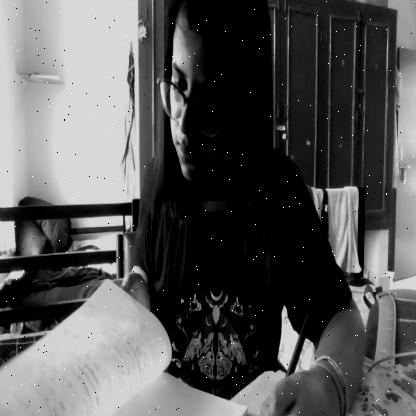Distracted: (164, 0, 261, 201)
